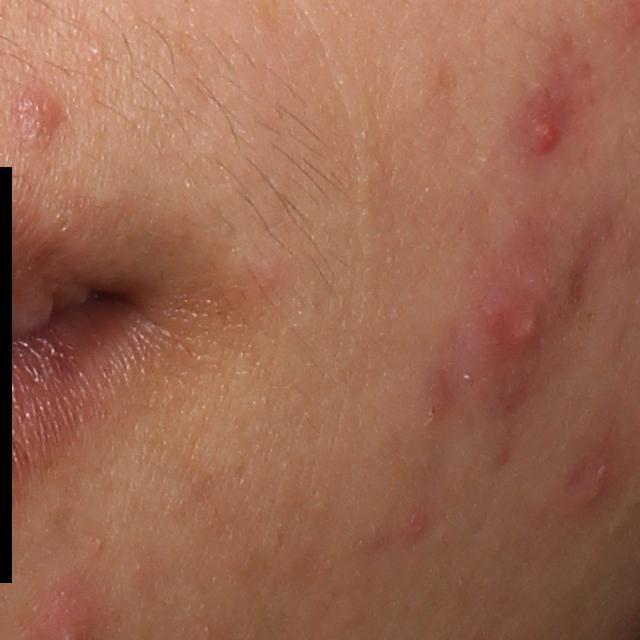papule: (445, 255, 549, 417), (516, 82, 569, 171), (4, 86, 71, 152), (572, 469, 609, 514), (403, 513, 433, 542)
